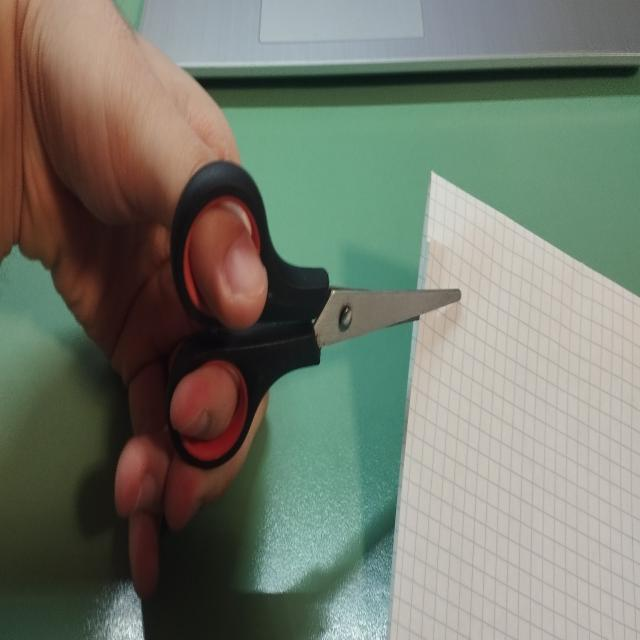tesoura: (162, 152, 464, 477)
